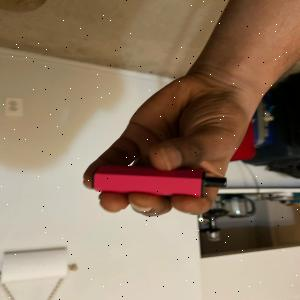Blume-E-Ciggirate: (89, 163, 232, 200)
